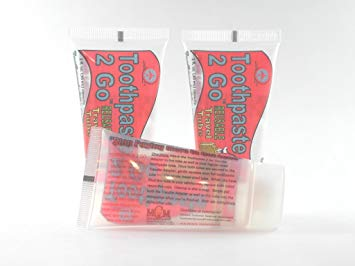Nonrec_Plastic: (77, 126, 299, 238), (169, 22, 297, 183), (61, 20, 168, 180)
